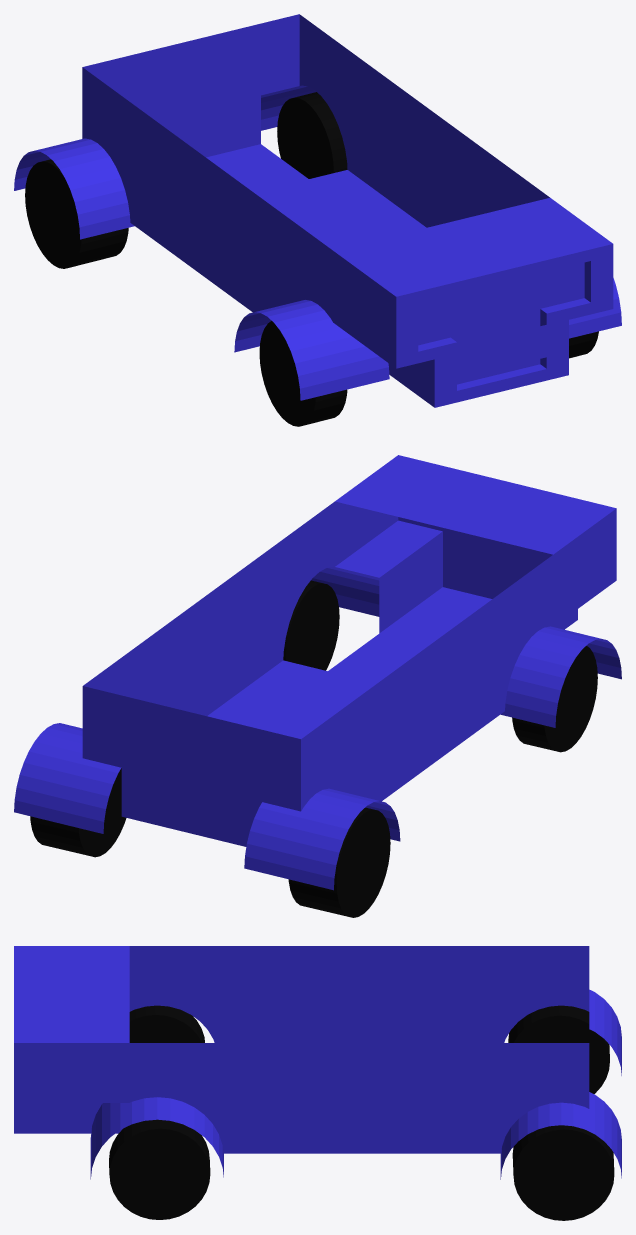
File: steerable_car4.glb
3 views of the same model, one above another, from view 1: azimuth 30°, elevation 25°; view 2: azimuth 150°, elevation 25°; view 3: azimuth 270°, elevation 25° (orthographic). The views are drawn at different scales.
Visible parts, largest first — view 1: chassis, wheel_rr, wheel_lr, wheel_rf; view 2: chassis, wheel_rr, wheel_rf, wheel_lf, wheel_lr; view 3: chassis, wheel_lf, wheel_lr, wheel_rr, wheel_rf.
Part boxes in pixels (x1,y1,x2,y2): chassis: (14, 14, 621, 407); wheel_rr: (25, 159, 128, 268); wheel_lr: (277, 92, 347, 178); wheel_rf: (259, 321, 347, 426); chassis: (14, 455, 621, 890); wheel_rr: (288, 807, 390, 917); wheel_rf: (512, 645, 597, 752); wheel_lf: (283, 580, 339, 670); wheel_lr: (30, 768, 126, 857); chassis: (14, 946, 621, 1179); wheel_lf: (109, 1119, 210, 1219); wheel_lr: (512, 1125, 614, 1220); wheel_rr: (508, 1005, 609, 1093); wheel_rf: (129, 1005, 204, 1042).
Bounding box in the file's own units: 2 × 1.05 × 3.61.
